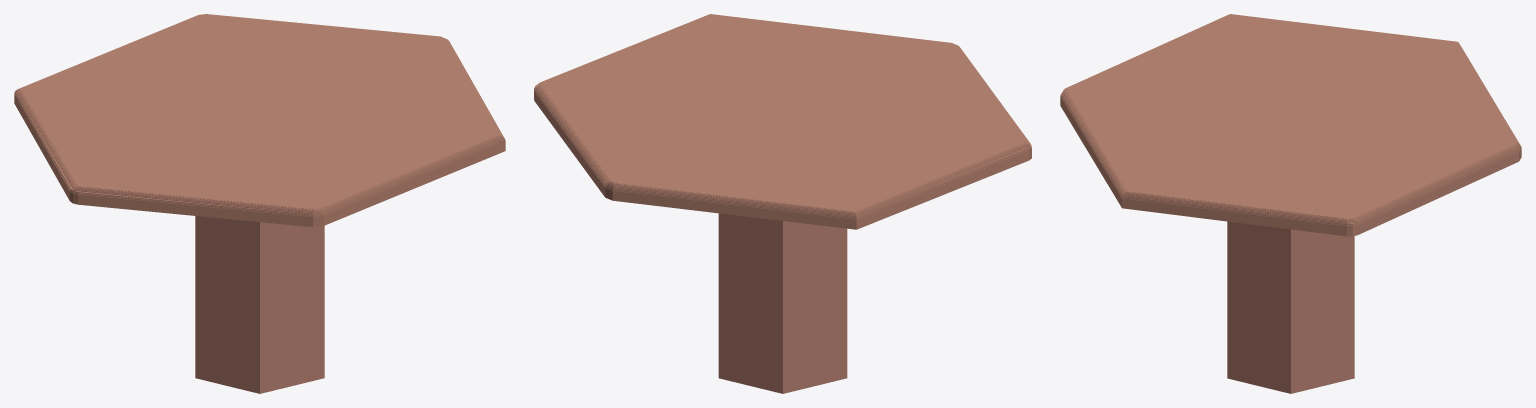
File: SM_TerraceTable_Hex.fbx
3 views of the same model, side by side, from view 1: azimuth 30°, elevation 25°; view 2: azimuth 150°, elevation 25°; view 3: azimuth 270°, elevation 25° (orthographic).
Visible parts, largest first — view 1: SM_TerraceTable_Hex; view 2: SM_TerraceTable_Hex; view 3: SM_TerraceTable_Hex.
Boxes of the visible parts, box(x1,y1,x2,y2) form: SM_TerraceTable_Hex: box(14, 14, 505, 393); SM_TerraceTable_Hex: box(534, 14, 1031, 393); SM_TerraceTable_Hex: box(1060, 14, 1521, 393).
Size of the model in its own units: 135 by 74 by 126.
